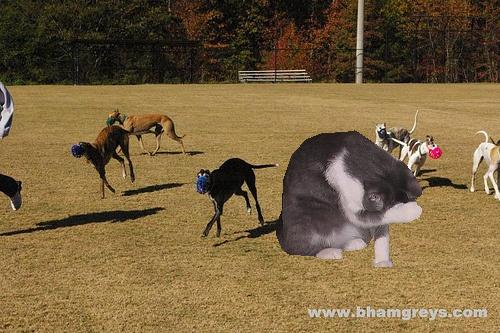tampered: (277, 131, 422, 267)
